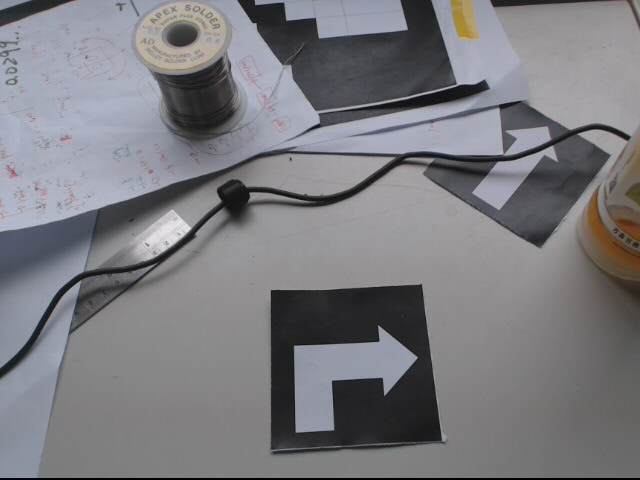right: (271, 283, 446, 450)
